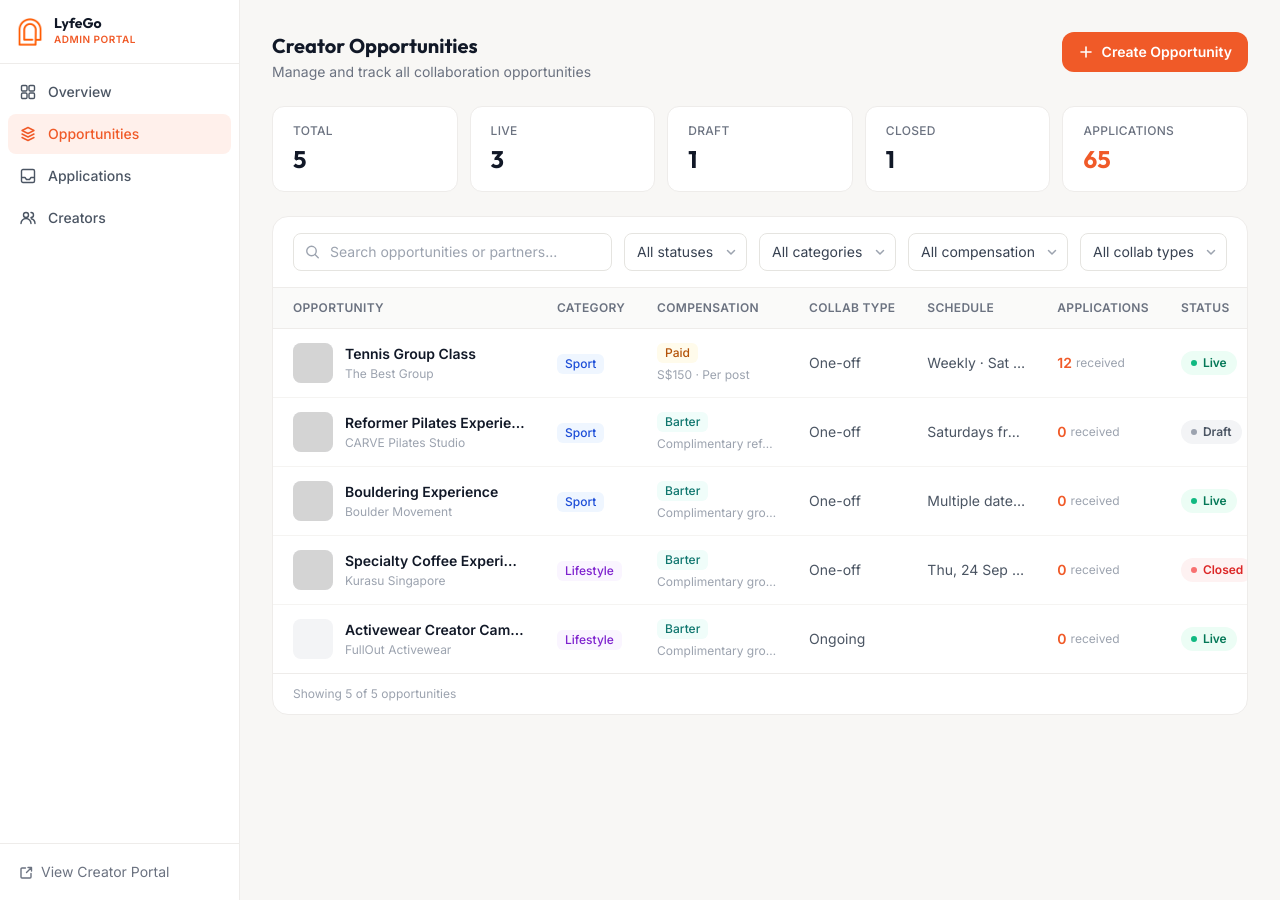
Test: Admin Opportunities list › combines filters and search, and updates "Showing X of Y"
Expected: the text "Showing 5 of 5 opportunities" is shown, left=293, top=686, right=456, bottom=702
Select "Lifestyle" in the dropdown named "Category" at [828, 252], box left=759, top=233, right=896, bottom=271
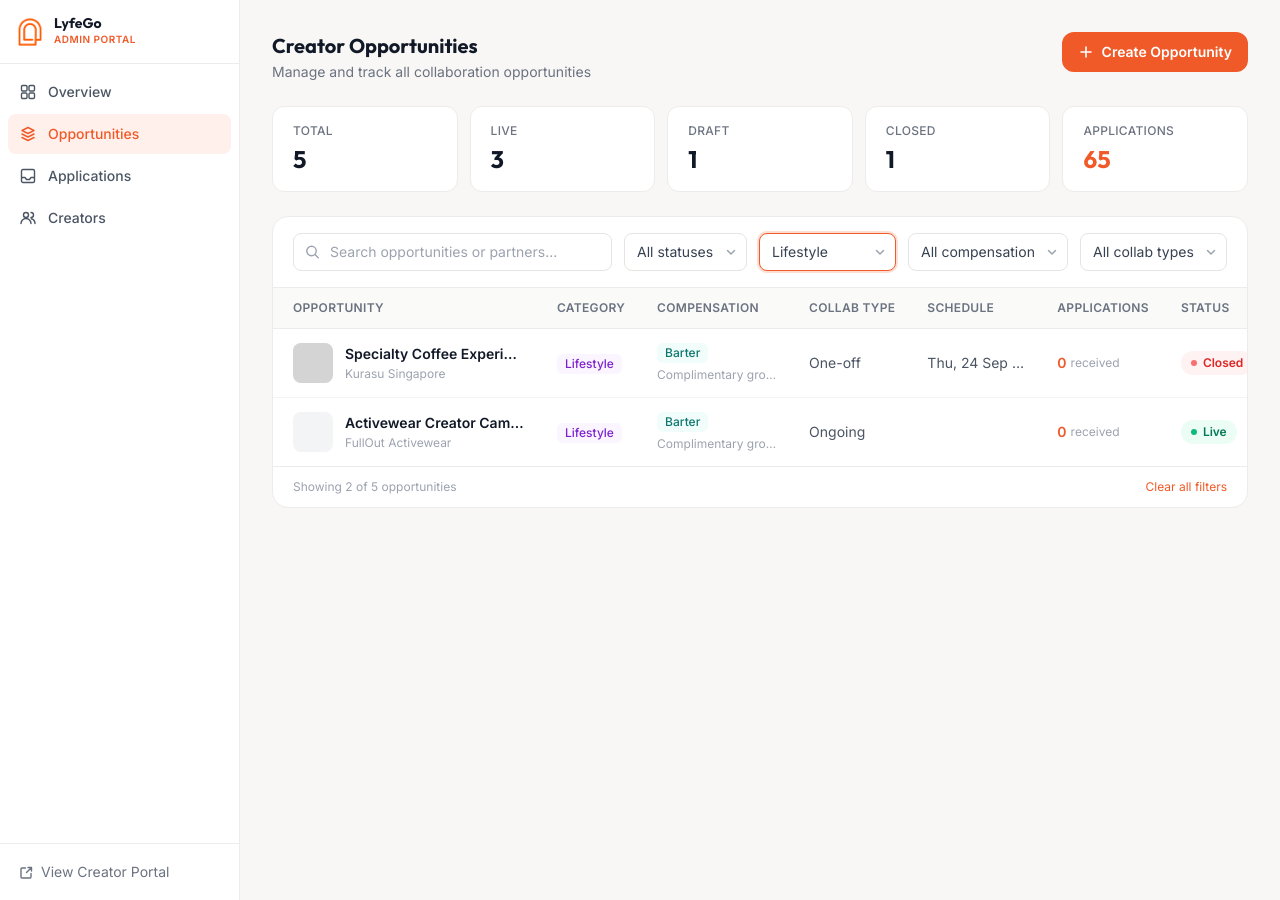
Now the text "Showing 2 of 5 opportunities" is shown, box left=293, top=479, right=456, bottom=495
Select "One-off" in the dropdown named "Collab type" at [1154, 252], box left=1080, top=233, right=1227, bottom=271
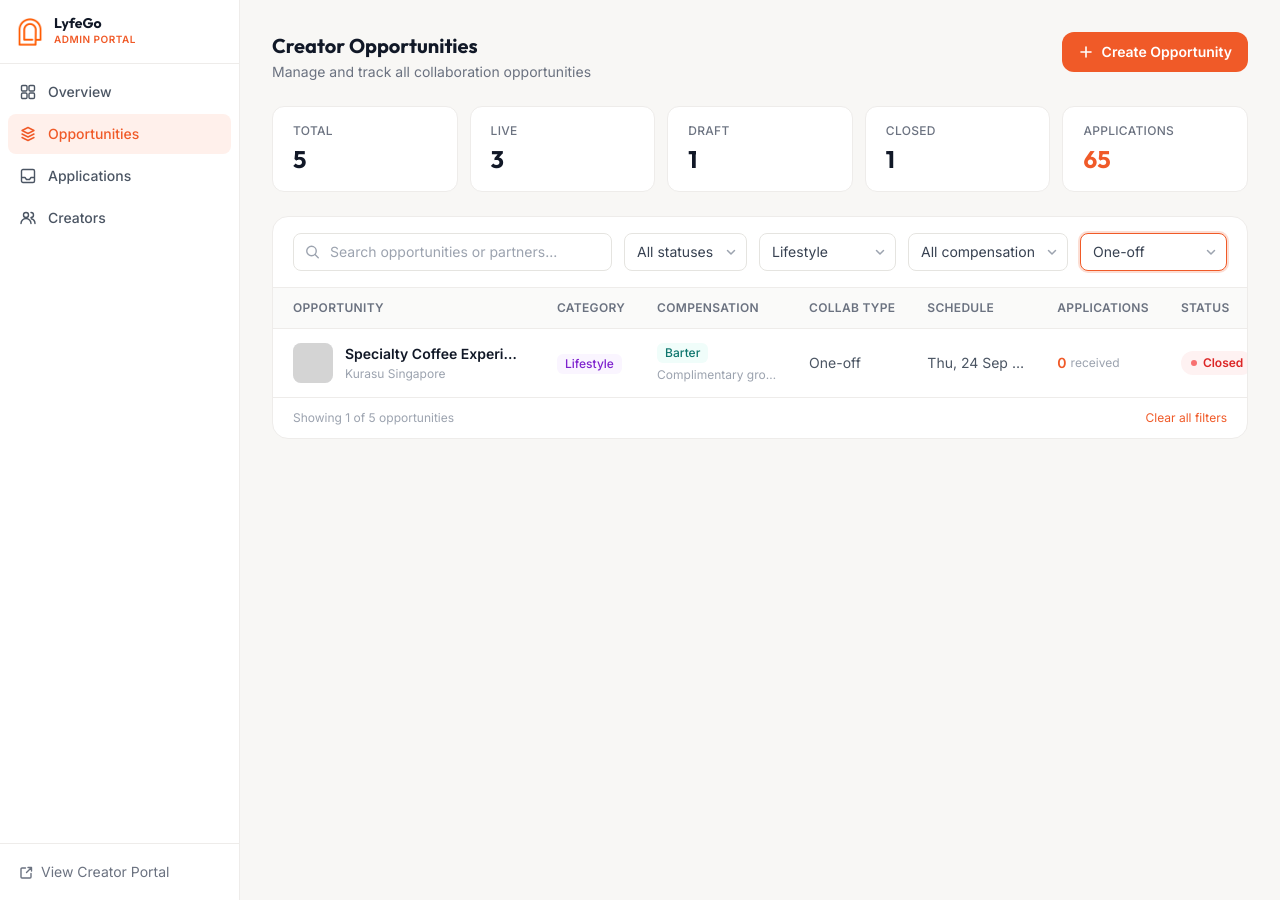
Expected: the text "Specialty Coffee Experience for Two" is shown, left=345, top=344, right=525, bottom=364
Now the text "Showing 1 of 5 opportunities" is shown, box left=293, top=410, right=454, bottom=426
Type "tennis" into the search field labelled "Search opportunities or partners" at [452, 252], box left=293, top=233, right=612, bottom=271
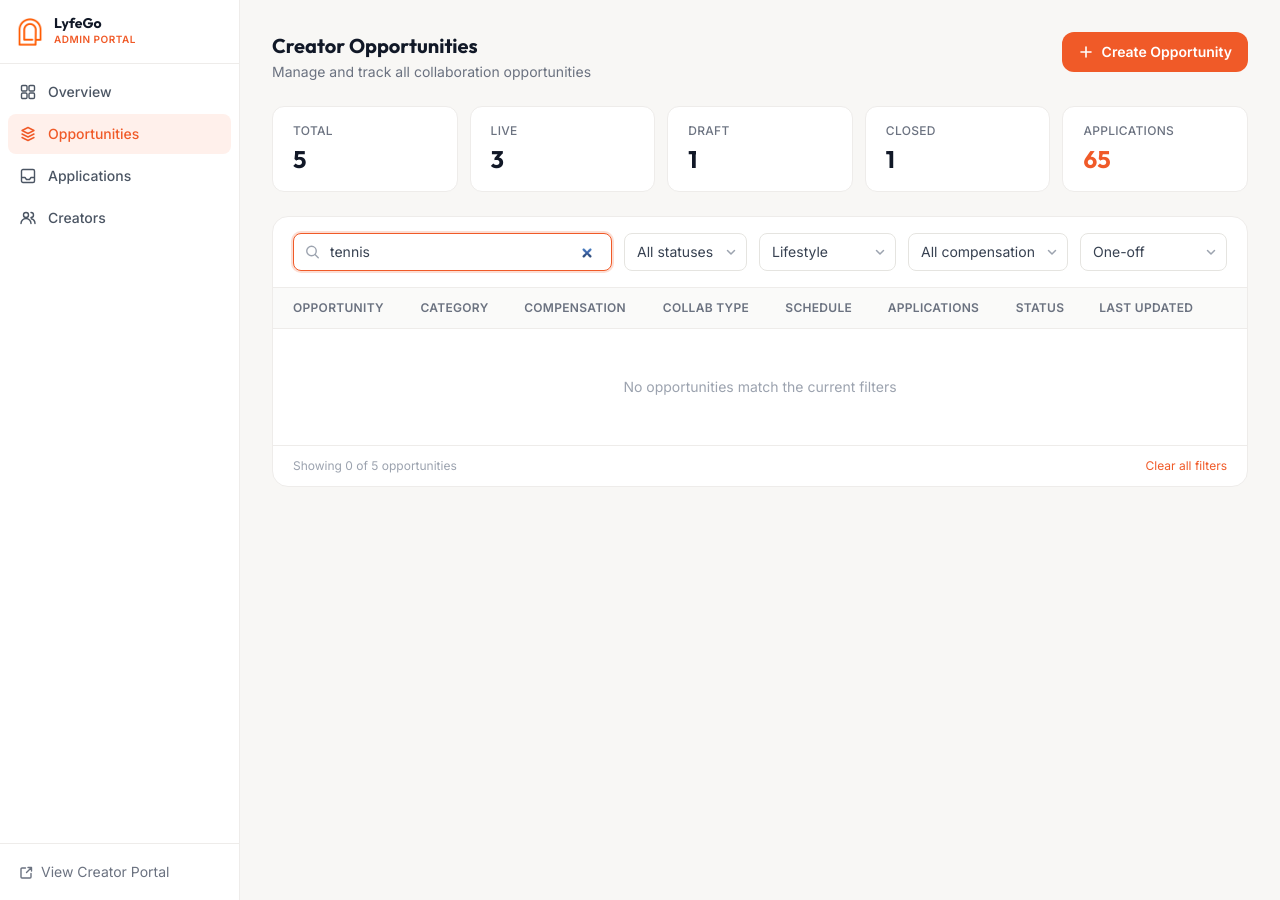
Now the text "Showing 0 of 5 opportunities" is shown, box left=293, top=458, right=457, bottom=474
Now the text "No opportunities match the current filters" is shown, box left=273, top=328, right=1247, bottom=445
